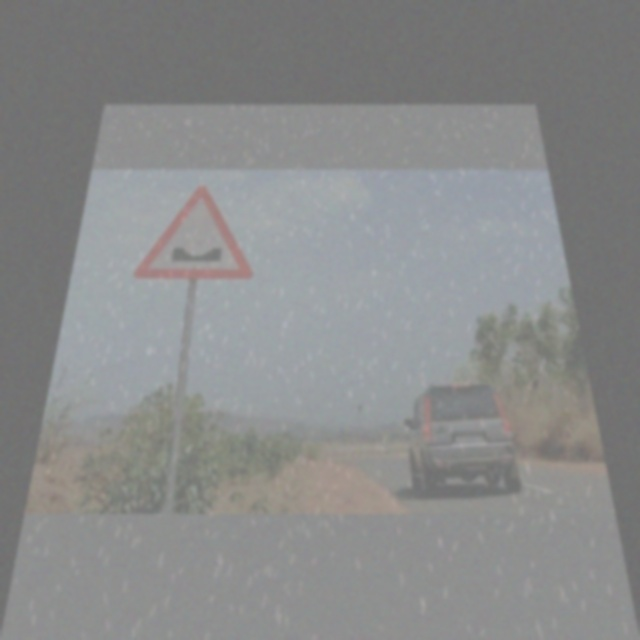Dangerous_Dip: (131, 184, 257, 280)
